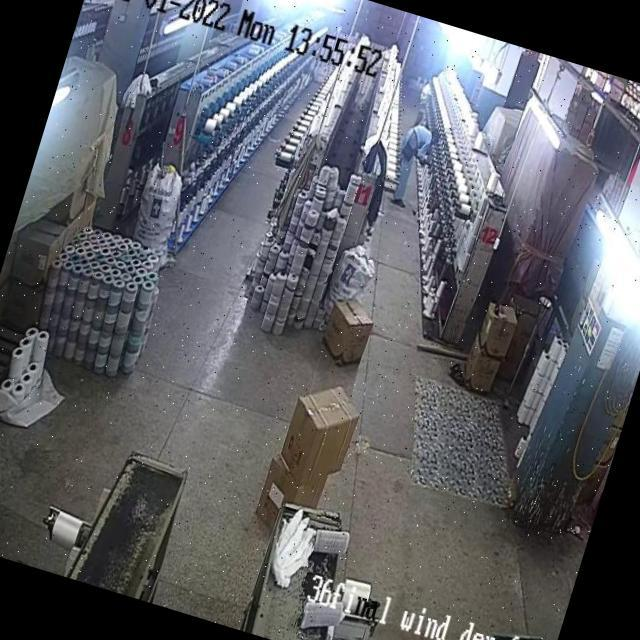person: (388, 115, 442, 202)
